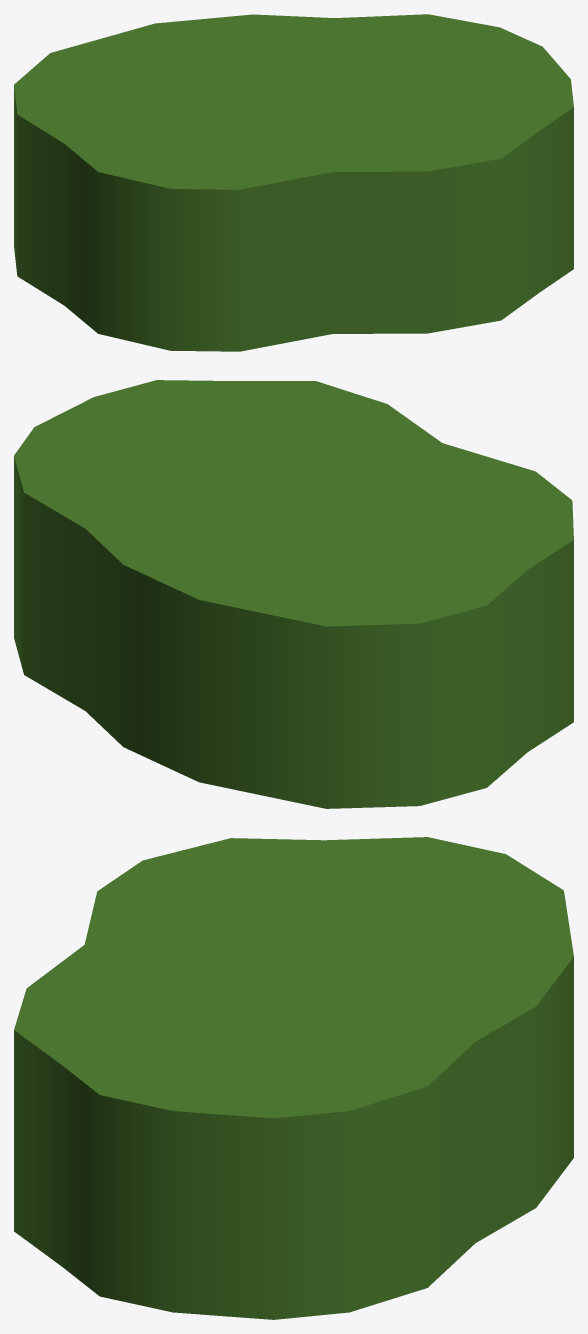
The model's file is Islands_03.fbx.
The picture shows the model from 3 angles, top to bottom: view 1: azimuth 30°, elevation 25°; view 2: azimuth 150°, elevation 25°; view 3: azimuth 270°, elevation 25°; orthographic projection. The views are drawn at different scales.
Parts seen in each view (by area): view 1: Island_03; view 2: Island_03; view 3: Island_03.
Part boxes in pixels (box(x1,y1,x2,y2)): Island_03: box(14, 14, 573, 351); Island_03: box(14, 380, 573, 808); Island_03: box(14, 837, 573, 1319).
Bounding box in the file's own units: 458 × 153 × 385.
